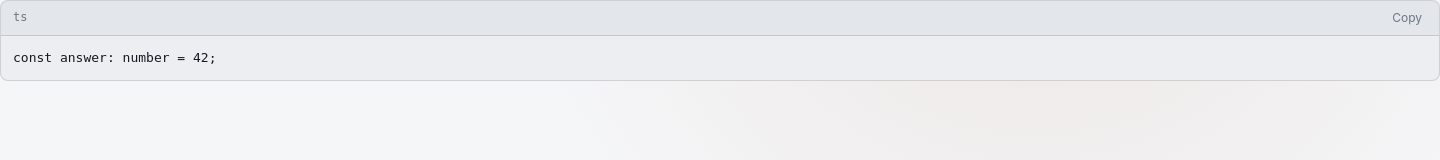
Markdown › renders fenced code with language label and copy control
The image size is (1440, 160).
Expected: the text "ts" is shown, left=13, top=8, right=28, bottom=28
Click the button with aria-label "copy code". click: point(1407, 18)
box: left=1383, top=5, right=1431, bottom=31
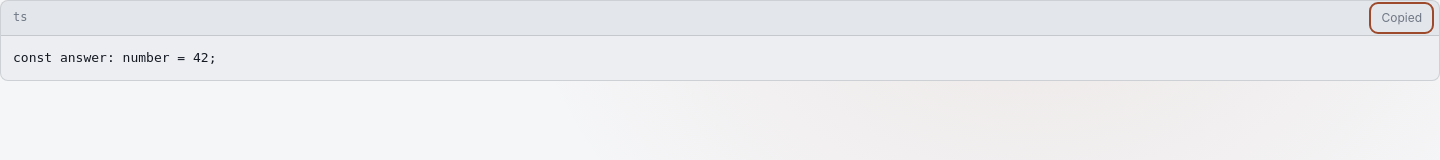
Now the button with aria-label "copy code" reads "Copied", box left=1372, top=5, right=1431, bottom=31
